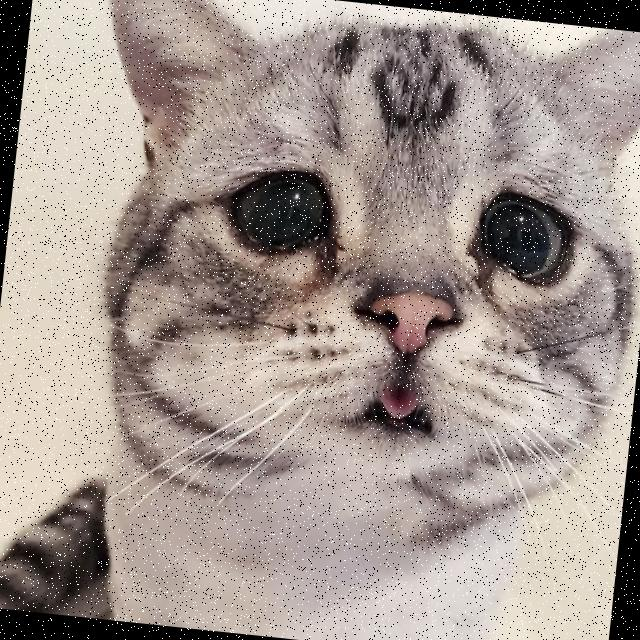Sad: (142, 93, 619, 502)
